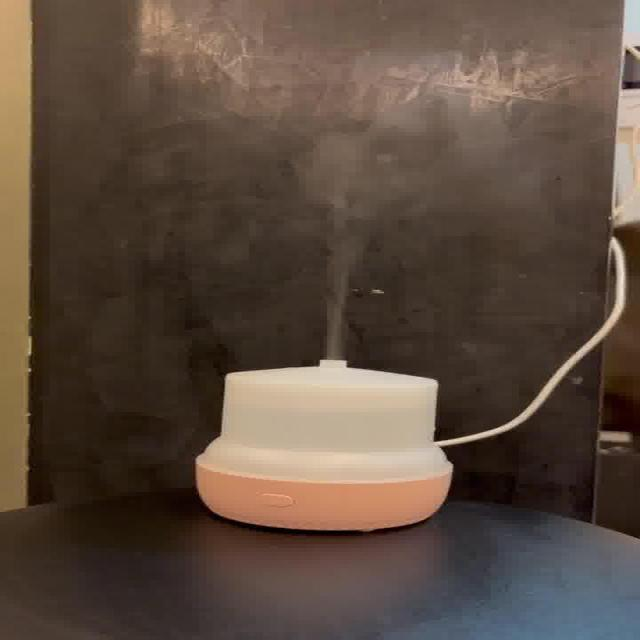fire: (312, 90, 482, 354)
